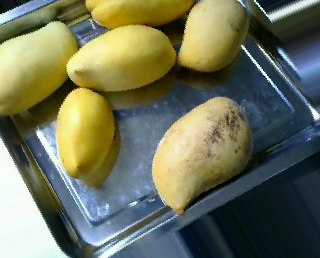Mango: (149, 95, 254, 217), (0, 19, 82, 118), (64, 22, 179, 91), (51, 87, 119, 181), (177, 0, 250, 75), (81, 0, 196, 29)
